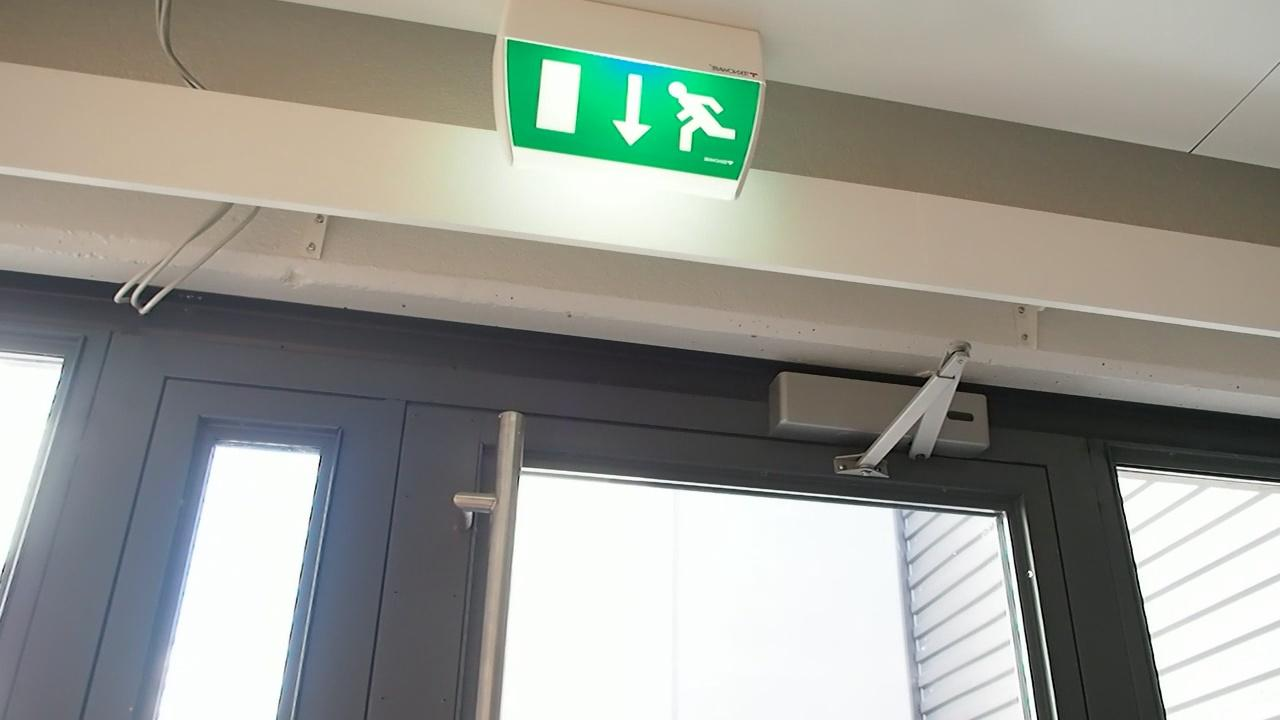exit: (500, 49, 762, 181)
